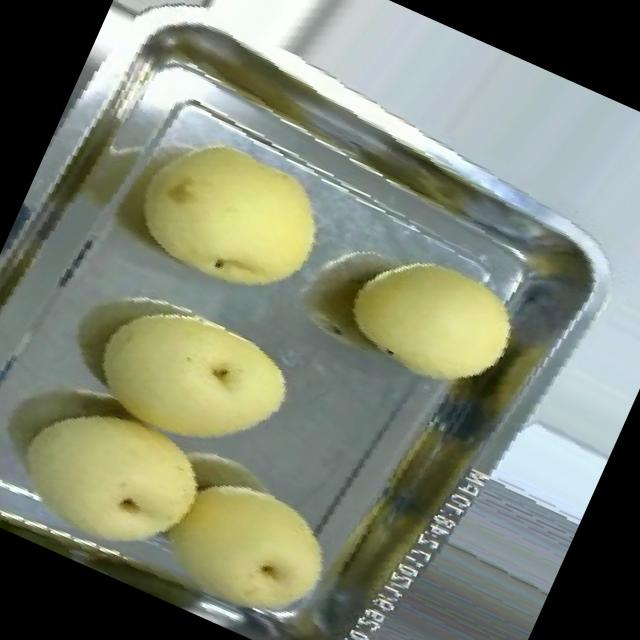Fruit: (99, 91, 367, 342), (60, 264, 321, 492), (0, 365, 234, 598), (314, 213, 552, 429), (122, 433, 369, 640)
